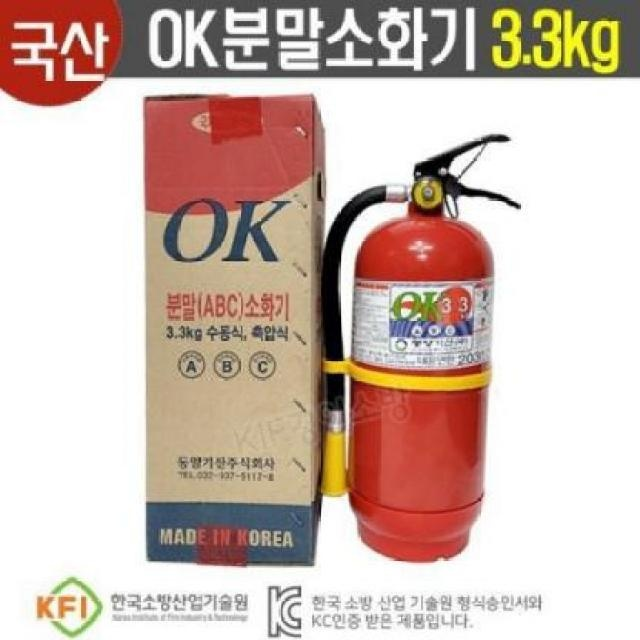fire extinguisher: (318, 132, 522, 565)
